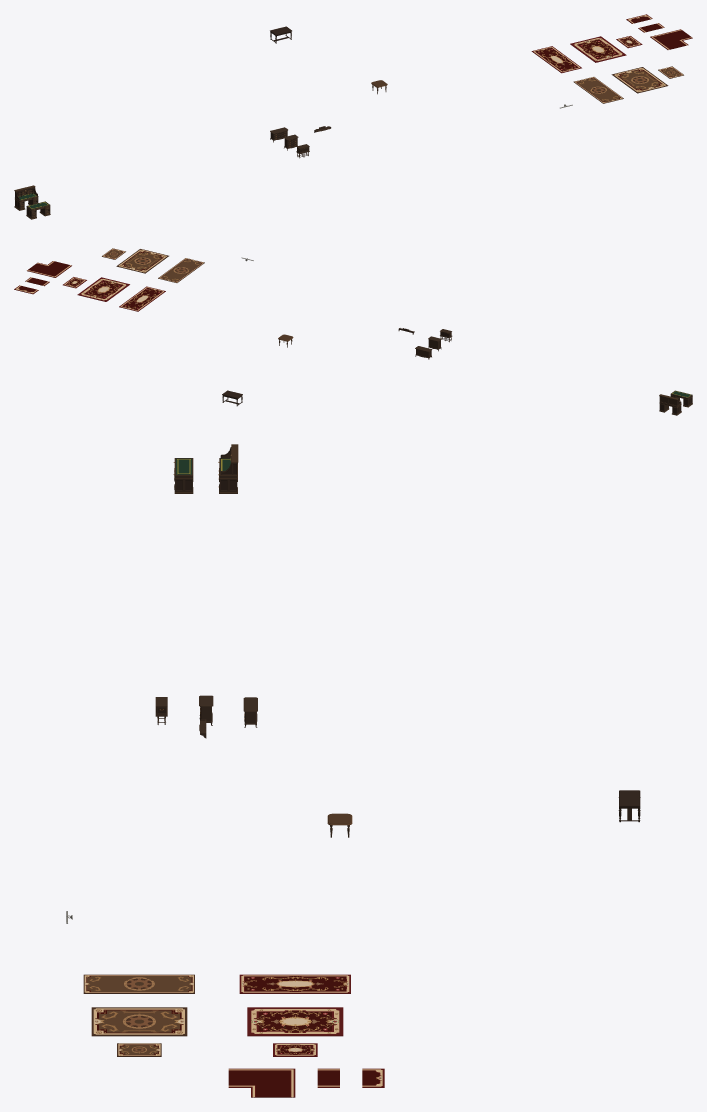
Rendered from lowpoly assets.fbx.
3 renders of one model, top to bottom at view 1: azimuth 30°, elevation 25°; view 2: azimuth 150°, elevation 25°; view 3: azimuth 270°, elevation 25°, orthographic. The views are drawn at different scales.
Parts seen in each view (by area): view 1: rug_victorian_large, rug_steampunk_large, rug_steampunk_long, rug_victorian_long, rug_victorian_modular_turn, desk_roll_top_base; view 2: rug_victorian_large, rug_steampunk_large, rug_steampunk_long, rug_victorian_long, rug_victorian_modular_turn, desk_roll_top_base; view 3: rug_victorian_large, rug_steampunk_large, rug_steampunk_long, rug_victorian_long, rug_victorian_modular_turn.
Boxes of the visible parts, x1=… form: rug_victorian_large: x1=570, y1=36, x2=626, y2=62; rug_steampunk_large: x1=611, y1=67, x2=668, y2=93; rug_steampunk_long: x1=573, y1=77, x2=623, y2=103; rug_victorian_long: x1=531, y1=46, x2=581, y2=73; rug_victorian_modular_turn: x1=650, y1=29, x2=692, y2=49; desk_roll_top_base: x1=14, y1=185, x2=38, y2=210; rug_victorian_large: x1=77, y1=277, x2=129, y2=301; rug_steampunk_large: x1=116, y1=249, x2=168, y2=273; rug_steampunk_long: x1=158, y1=258, x2=204, y2=282; rug_victorian_long: x1=119, y1=286, x2=165, y2=311; rug_victorian_modular_turn: x1=27, y1=261, x2=71, y2=277; desk_roll_top_base: x1=659, y1=394, x2=681, y2=415; rug_victorian_large: x1=247, y1=1007, x2=343, y2=1036; rug_steampunk_large: x1=91, y1=1007, x2=187, y2=1036; rug_steampunk_long: x1=83, y1=974, x2=194, y2=993; rug_victorian_long: x1=239, y1=974, x2=350, y2=993; rug_victorian_modular_turn: x1=228, y1=1068, x2=295, y2=1097.
Size of the model in its own units: 6596 by 158 by 2579.
2 materials, 2 textured.
